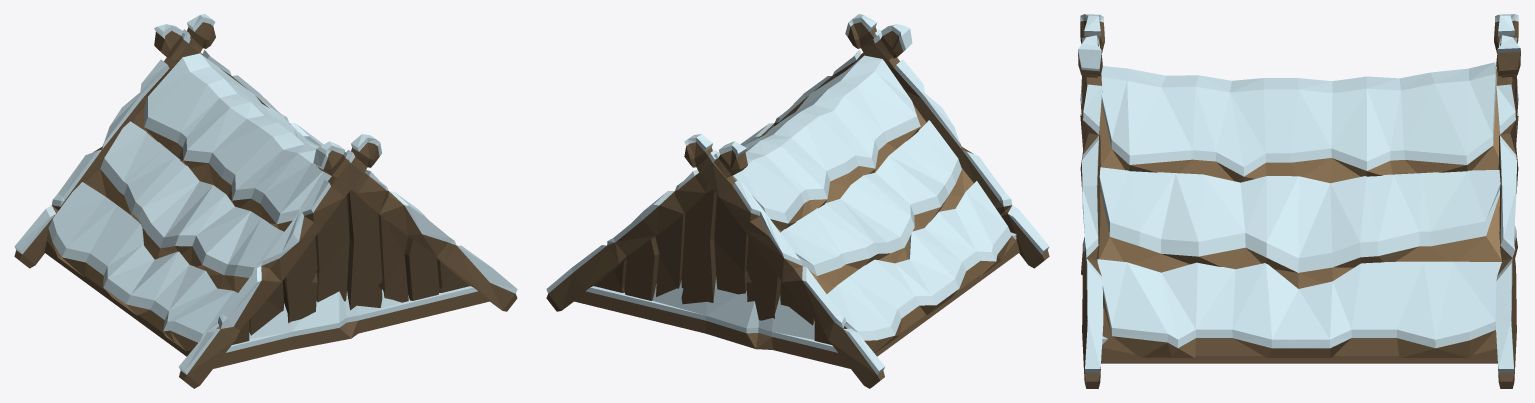
File: SM_Bld_Roof_01_Snow.fbx
The picture shows the model from 3 angles, left to right: view 1: azimuth 30°, elevation 25°; view 2: azimuth 150°, elevation 25°; view 3: azimuth 270°, elevation 25°; orthographic projection. The views are drawn at different scales.
Visible parts, largest first — view 1: SM_Bld_Roof_01_Snow; view 2: SM_Bld_Roof_01_Snow; view 3: SM_Bld_Roof_01_Snow.
Part boxes in pixels (left/top/right/bottom): SM_Bld_Roof_01_Snow: left=14, top=14, right=517, bottom=388; SM_Bld_Roof_01_Snow: left=546, top=14, right=1049, bottom=388; SM_Bld_Roof_01_Snow: left=1078, top=14, right=1520, bottom=388.
Size of the model in its own units: 528 by 315 by 475.
